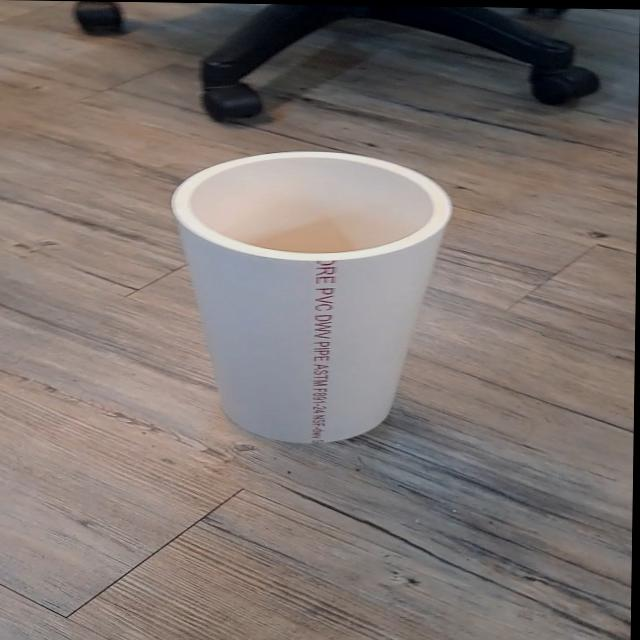CORAL: (163, 143, 461, 451)
